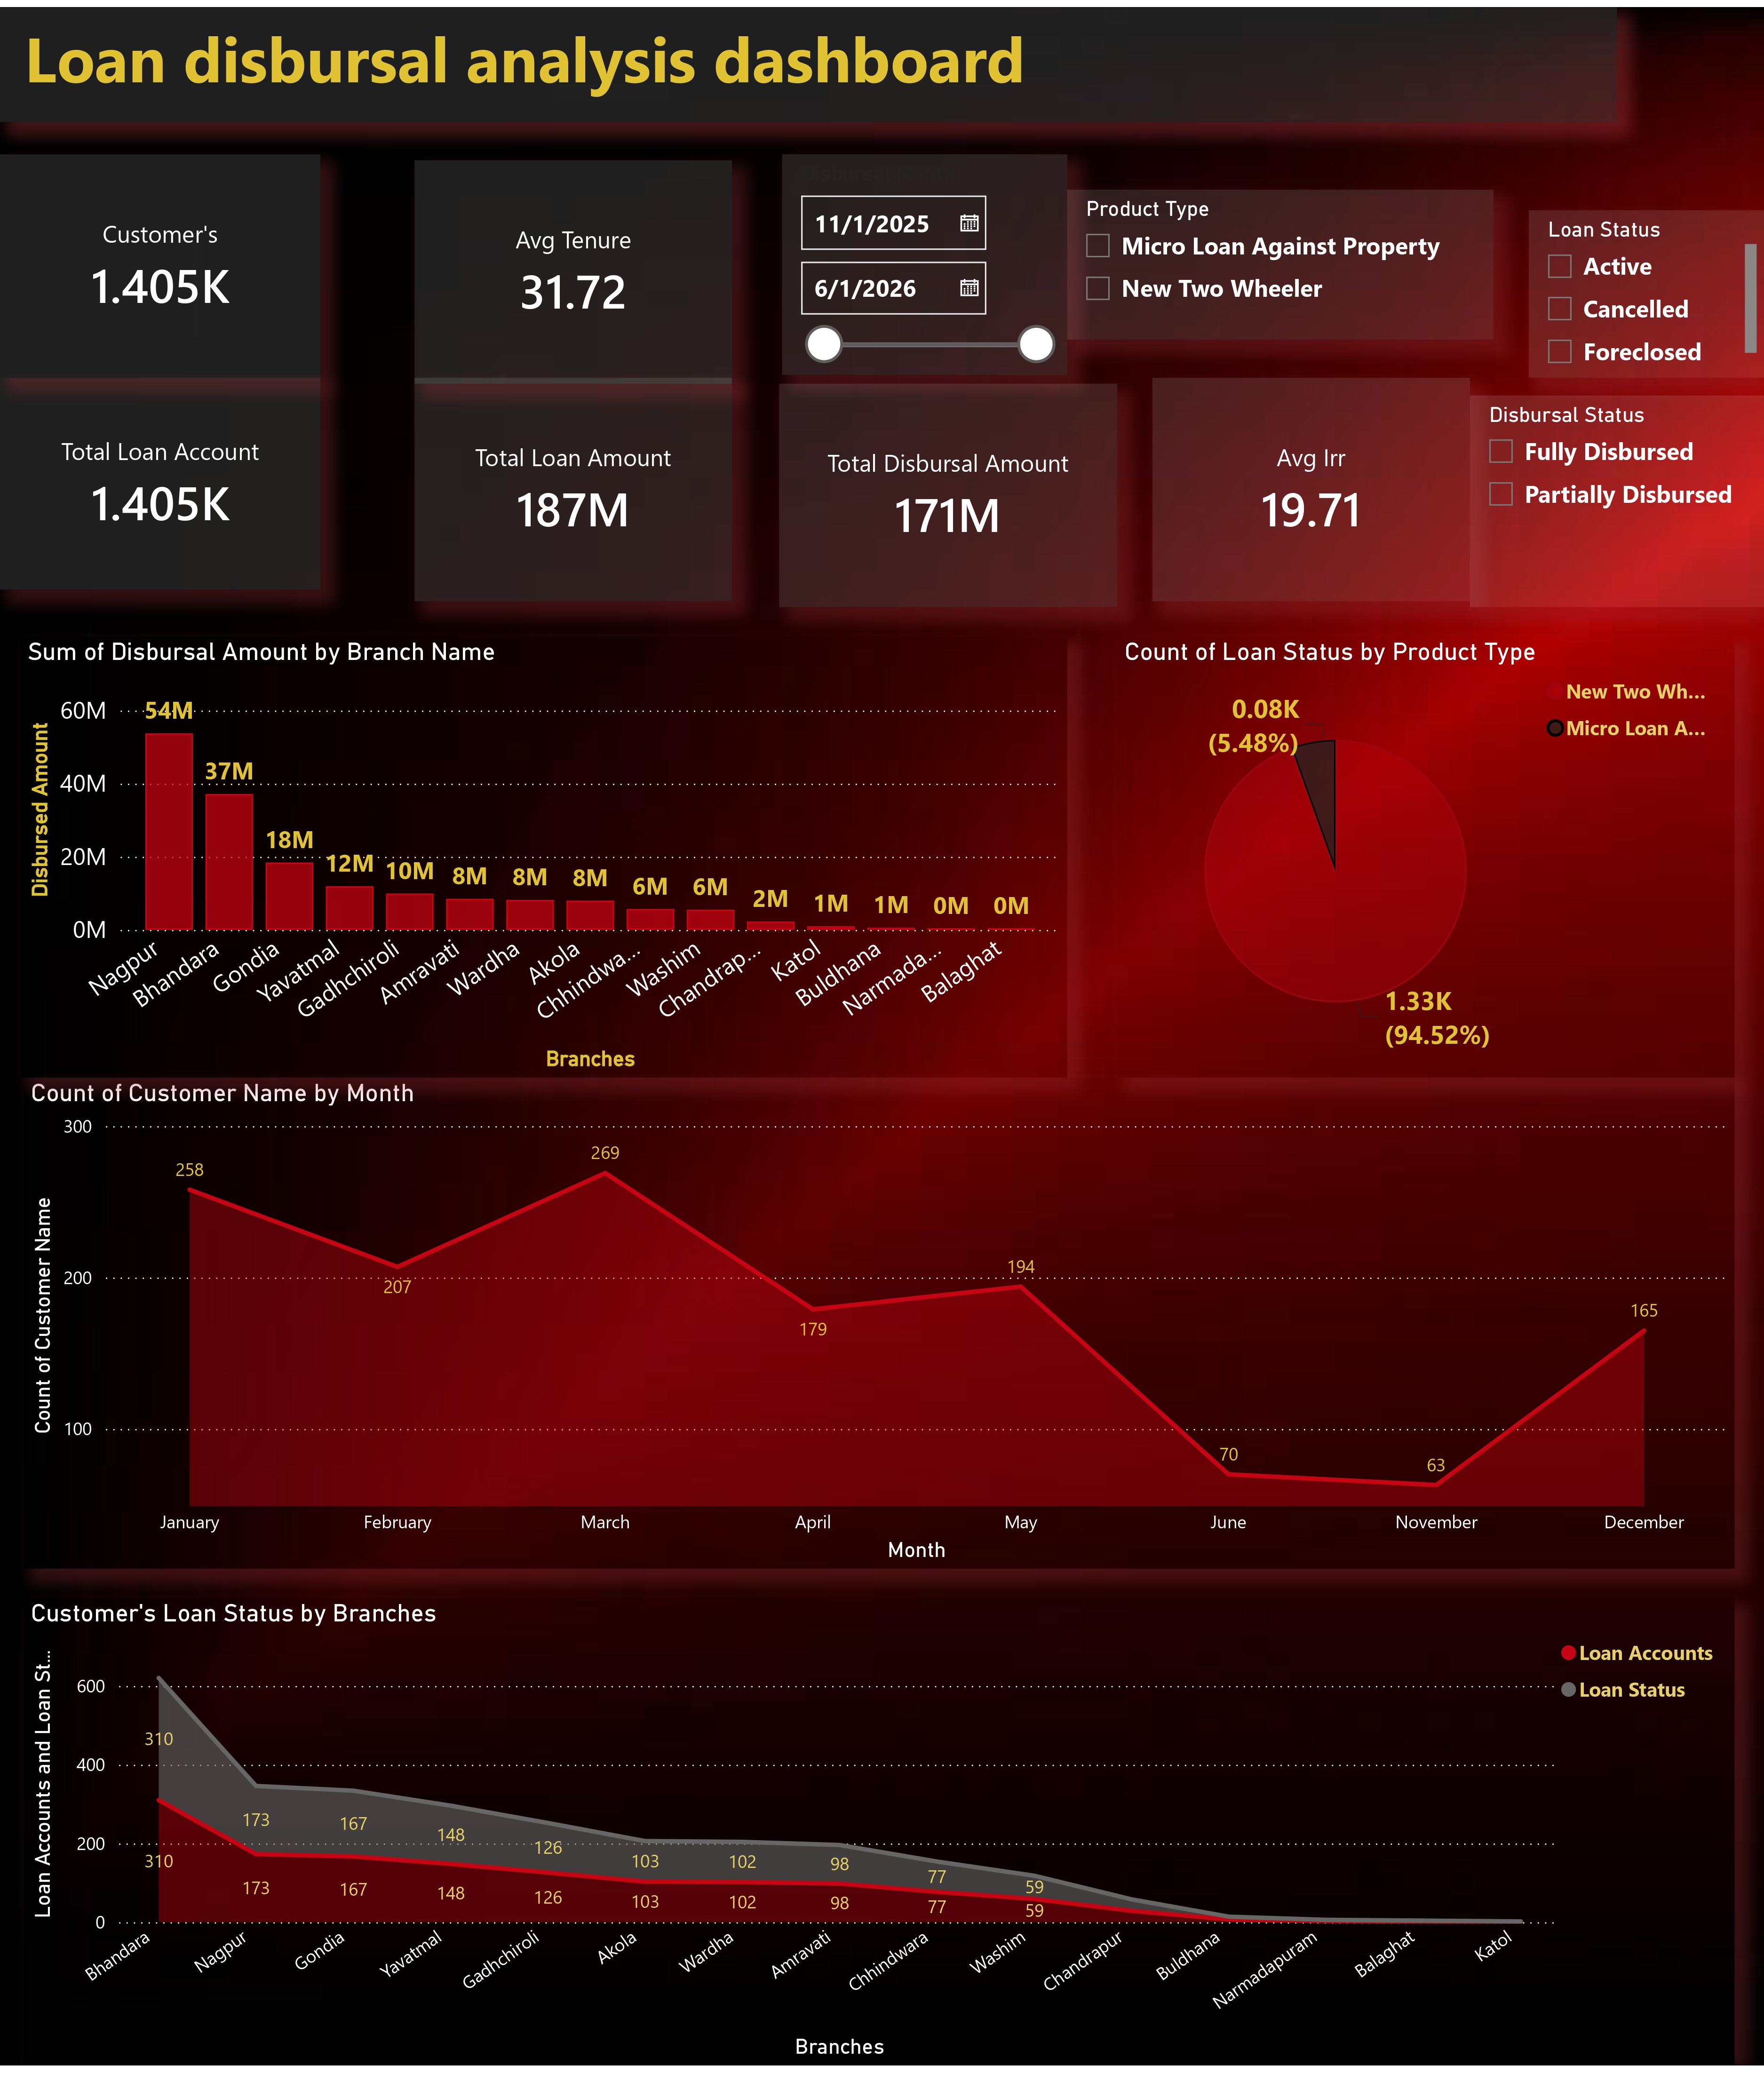

This screenshot's page, from the dashboard's own definition file:
{"tool":"powerbi","page":{"name":"Page 1","canvas":[1200,1400],"ordinal":0},"visuals":[{"type":"cardVisual","fields":{"Data":["CountNonNull(cleaned_finance_data.Loan Account Number)"]},"box":[16.8,176.4,216.7,144.5],"z":0},{"type":"cardVisual","fields":{"Data":["Sum(cleaned_finance_data.Sanctioned Amount)"]},"box":[262,176.4,216.7,151.2],"z":1000},{"type":"cardVisual","fields":{"Data":["CountNonNull(cleaned_finance_data.Customer Name)"]},"box":[16.8,0,216.7,151.2],"z":2000},{"type":"slicer","fields":{"Values":["cleaned_finance_data.Disbursal Month"]},"box":[498,0,194,150],"z":3000},{"type":"cardVisual","fields":{"Data":["Avg(cleaned_finance_data.Original Tenure)"]},"box":[262,0,216.7,151.2],"z":4000},{"type":"stackedAreaChart","title":"Customer''s Loan Status by Branches","fields":{"Y":["CountNonNull(cleaned_finance_data.Loan Account Number)","CountNonNull(cleaned_finance_data.Loan Status)"],"Category":["cleaned_finance_data.Branch Name"]},"box":[16,1030,1164,370],"z":5000},{"type":"slicer","fields":{"Values":["cleaned_finance_data.Product Type"]},"box":[710,24,290,102],"z":6000},{"type":"slicer","fields":{"Values":["cleaned_finance_data.Loan Status"]},"box":[1020,18,160,114],"z":7000},{"type":"cardVisual","fields":{"Data":["Sum(cleaned_finance_data.Disbursal Amount)"]},"box":[498,176,230,152],"z":8000},{"type":"cardVisual","fields":{"Data":["Avg(cleaned_finance_data.Irr)"]},"box":[760,176,216,152],"z":9000},{"type":"slicer","fields":{"Values":["cleaned_finance_data.Disbursal Status"]},"box":[1000,184,200,144],"z":10000},{"type":"lineChart","fields":{"Category":["cleaned_finance_data.Disbursal Date.Variation.Date Hierarchy.Month"],"Y":["CountNonNull(cleaned_finance_data.Customer Name)"]},"box":[16,680,1164,314],"z":11000},{"type":"clusteredColumnChart","fields":{"Category":["cleaned_finance_data.Branch Name"],"Y":["Sum(cleaned_finance_data.Disbursal Amount)"]},"box":[16,362,712,300],"z":12001},{"type":"pieChart","fields":{"Category":["cleaned_finance_data.Product Type"],"Y":["CountNonNull(cleaned_finance_data.Loan Status)"]},"box":[760,362,420,300],"z":12002}]}

Visuals, with their boxes in screenshot pixels (x1, y1, x2, y2), scaled from the page's 1200x1400 canvas onto the 1764x2073 screenshot:
cardVisual - CountNonNull(cleaned_finance_data.Loan Account Number): (x1=24, y1=261, x2=343, y2=475)
cardVisual - Sum(cleaned_finance_data.Sanctioned Amount): (x1=385, y1=261, x2=704, y2=485)
cardVisual - CountNonNull(cleaned_finance_data.Customer Name): (x1=24, y1=0, x2=343, y2=224)
slicer - cleaned_finance_data.Disbursal Month: (x1=732, y1=0, x2=1017, y2=222)
cardVisual - Avg(cleaned_finance_data.Original Tenure): (x1=385, y1=0, x2=704, y2=224)
"Customer''s Loan Status by Branches" stackedAreaChart: (x1=24, y1=1525, x2=1735, y2=2073)
slicer - cleaned_finance_data.Product Type: (x1=1044, y1=36, x2=1470, y2=187)
slicer - cleaned_finance_data.Loan Status: (x1=1500, y1=27, x2=1735, y2=196)
cardVisual - Sum(cleaned_finance_data.Disbursal Amount): (x1=732, y1=261, x2=1070, y2=485)
cardVisual - Avg(cleaned_finance_data.Irr): (x1=1117, y1=261, x2=1435, y2=485)
slicer - cleaned_finance_data.Disbursal Status: (x1=1470, y1=272, x2=1764, y2=485)
lineChart - cleaned_finance_data.Disbursal Date.Variation.Date Hierarchy.Month x CountNonNull(cleaned_finance_data.Customer Name): (x1=24, y1=1007, x2=1735, y2=1472)
clusteredColumnChart - cleaned_finance_data.Branch Name x Sum(cleaned_finance_data.Disbursal Amount): (x1=24, y1=536, x2=1070, y2=980)
pieChart - cleaned_finance_data.Product Type x CountNonNull(cleaned_finance_data.Loan Status): (x1=1117, y1=536, x2=1735, y2=980)
